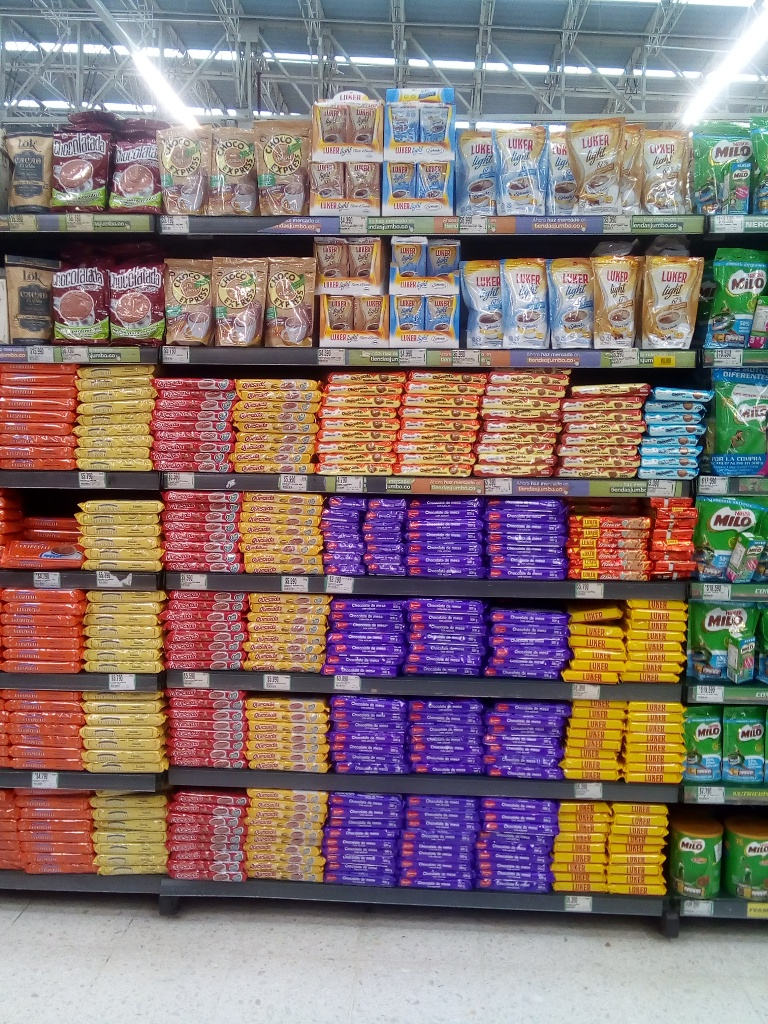COL0170205DYP20000: (713, 703, 767, 785)
COL0170205DYP50000: (710, 380, 767, 472)
